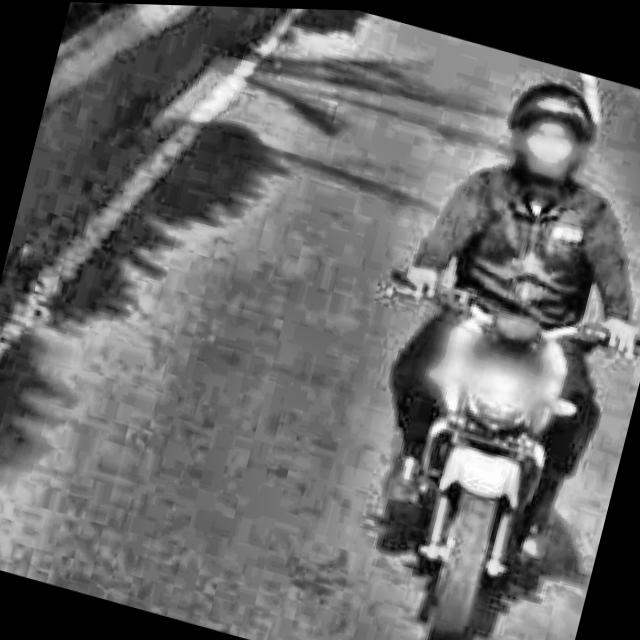motorcycle: (292, 232, 640, 640)
